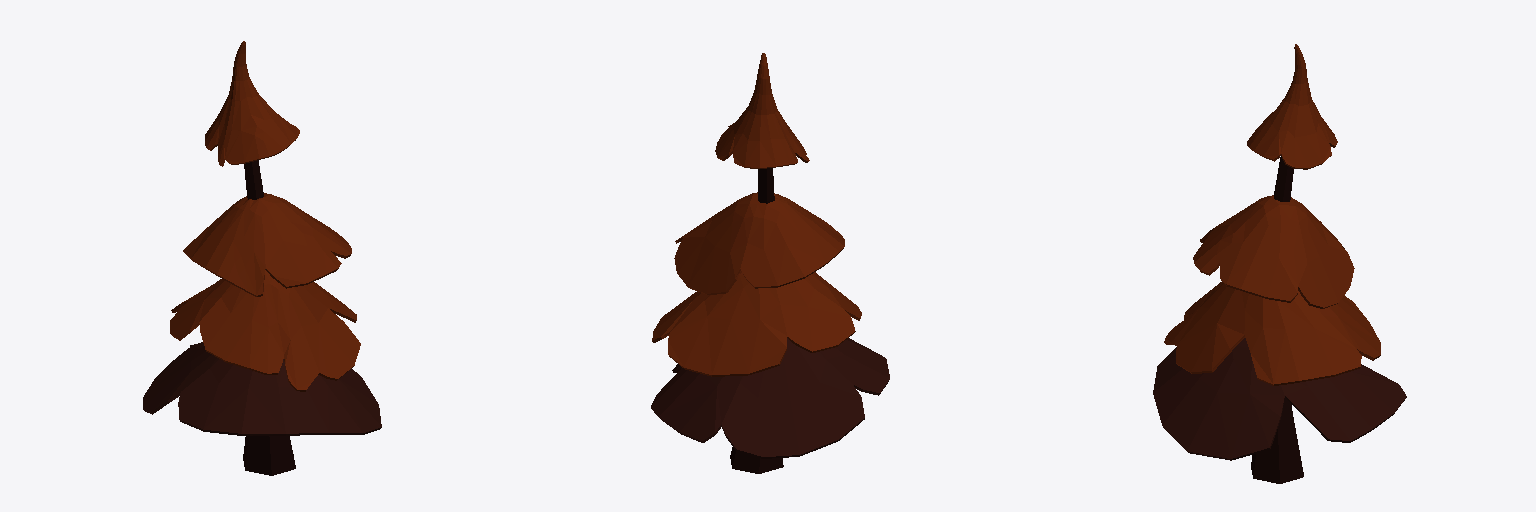
Rendered from PineTree_Autumn_2_Cylinder.obj.
The picture shows the model from 3 angles: view 1: azimuth 30°, elevation 25°; view 2: azimuth 150°, elevation 25°; view 3: azimuth 270°, elevation 25°; orthographic projection.
Parts seen in each view (by area): view 1: PineTree_Autumn_2_Cylinder.064; view 2: PineTree_Autumn_2_Cylinder.064; view 3: PineTree_Autumn_2_Cylinder.064.
Part boxes in pixels (left/top/right/bottom): PineTree_Autumn_2_Cylinder.064: left=143, top=41, right=381, bottom=475; PineTree_Autumn_2_Cylinder.064: left=651, top=53, right=889, bottom=473; PineTree_Autumn_2_Cylinder.064: left=1153, top=44, right=1406, bottom=483.
Size of the model in its own units: 1.8 by 3.56 by 1.96.